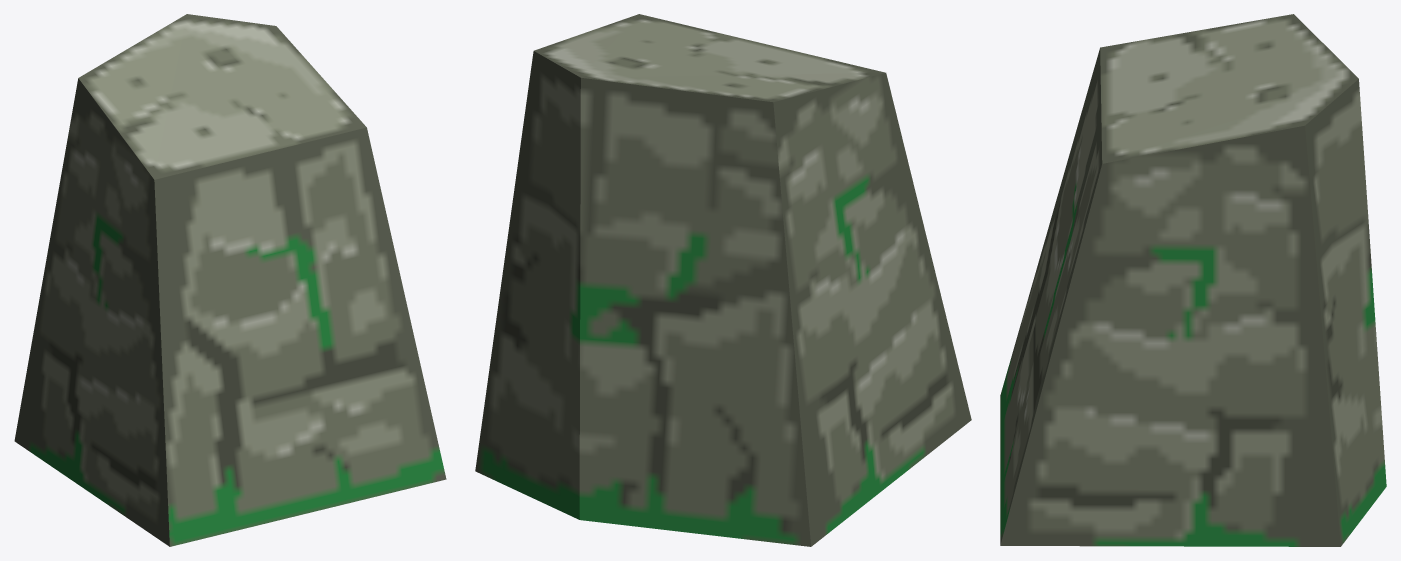
Rendered from ForestRock_Medium02.fbx.
The picture shows the model from 3 angles, left to right: view 1: azimuth 30°, elevation 25°; view 2: azimuth 150°, elevation 25°; view 3: azimuth 270°, elevation 25°; orthographic projection. The views are drawn at different scales.
Visible parts, largest first — view 1: ForestRock_Medium02; view 2: ForestRock_Medium02; view 3: ForestRock_Medium02.
Boxes of the visible parts, box(x1,y1,x2,y2) form: ForestRock_Medium02: box(14, 14, 446, 546); ForestRock_Medium02: box(475, 14, 971, 546); ForestRock_Medium02: box(1000, 14, 1386, 546).
Bounding box in the file's own units: 10.93 × 13.58 × 11.48.
